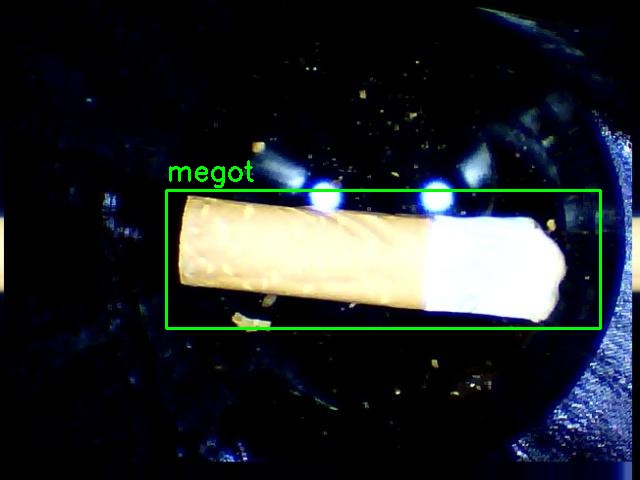megot: (166, 190, 600, 328)
